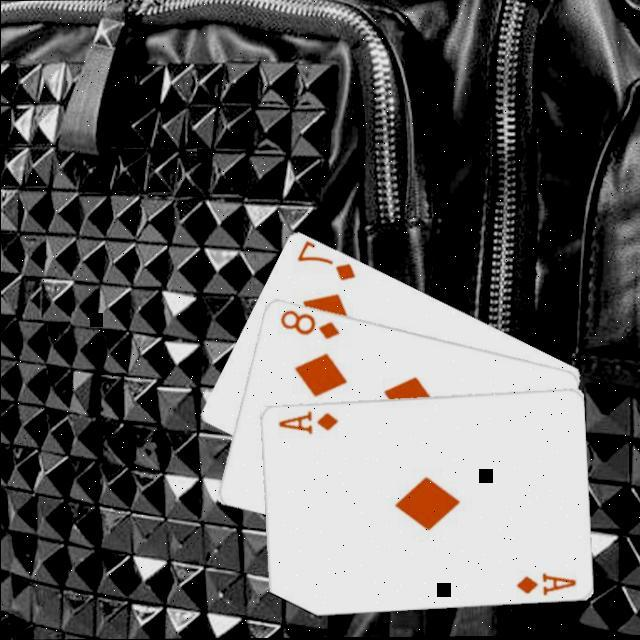7D: (294, 237, 360, 282)
8D: (277, 304, 343, 340)
AD: (276, 406, 342, 435), (514, 568, 580, 596)
